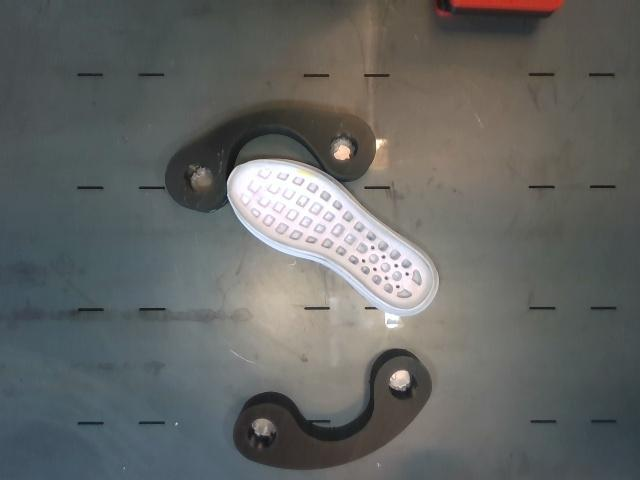shoes: (227, 160, 434, 309)
